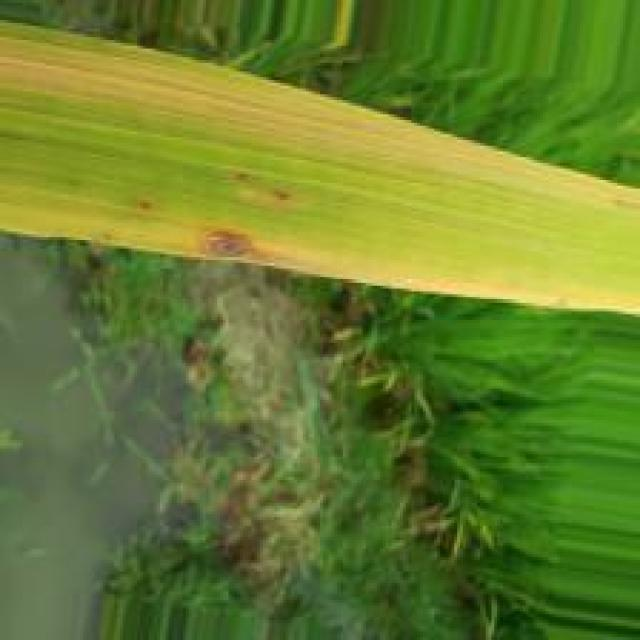Narrow_Brown_Leaf_Spot: (0, 39, 577, 178), (0, 199, 365, 283), (225, 160, 300, 205)
